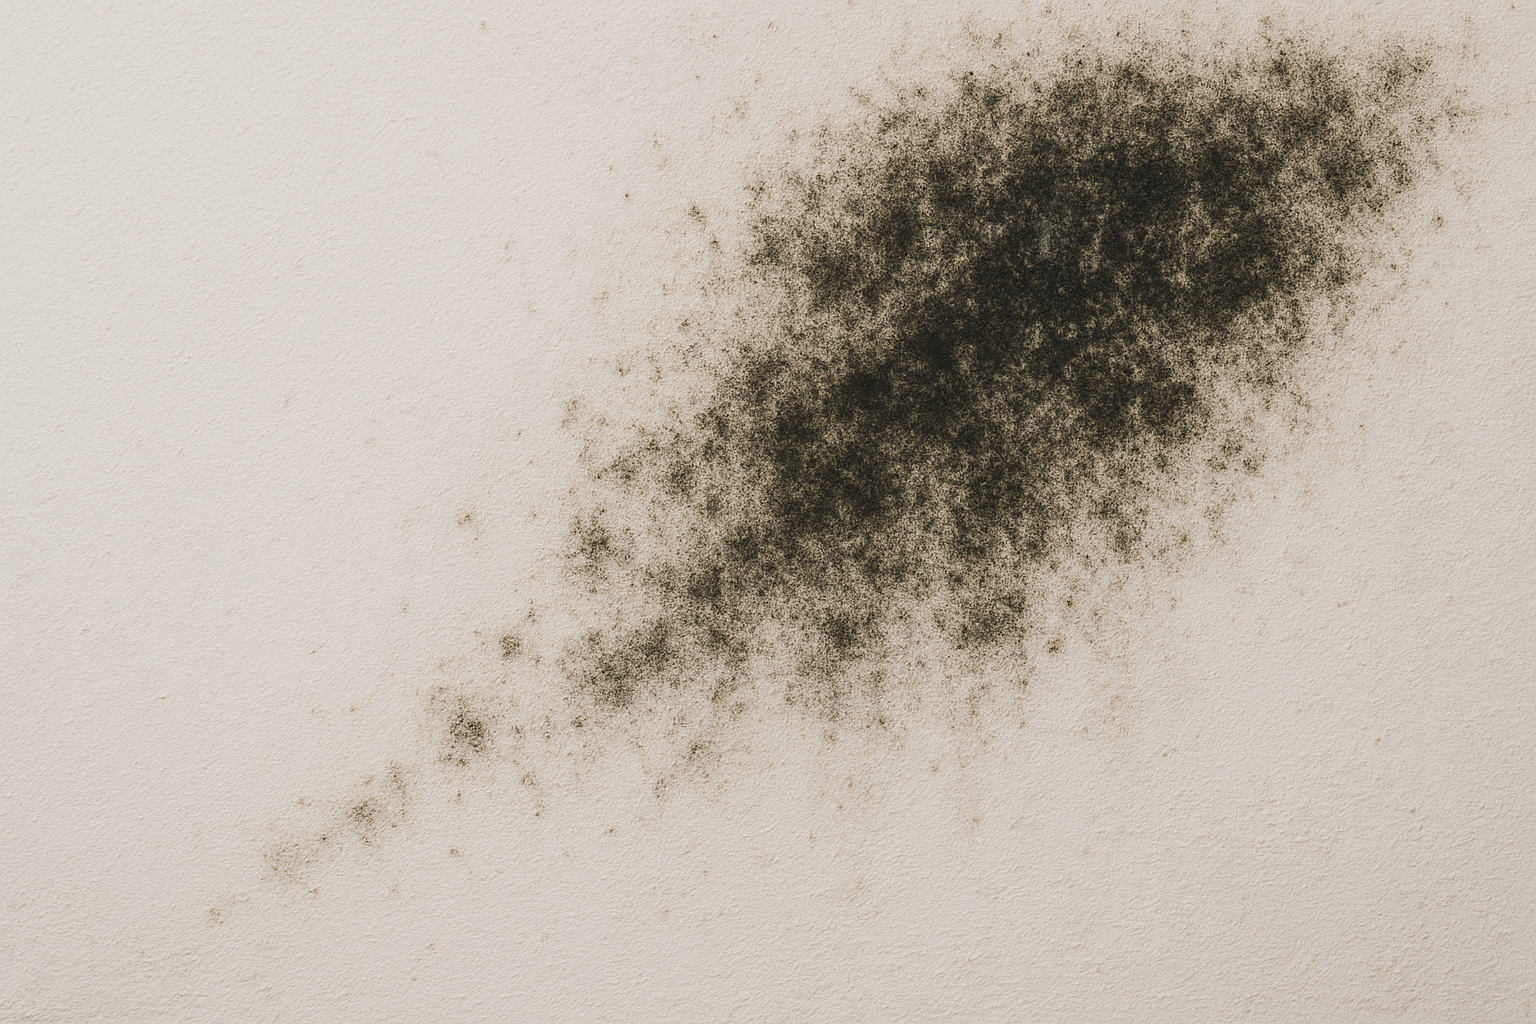schimmel: (850, 101, 1389, 379), (795, 384, 1146, 504), (696, 520, 913, 601), (575, 638, 711, 720), (534, 527, 638, 592)
